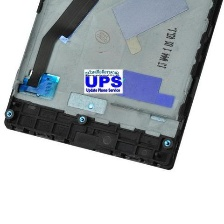phone: (2, 0, 223, 170)
